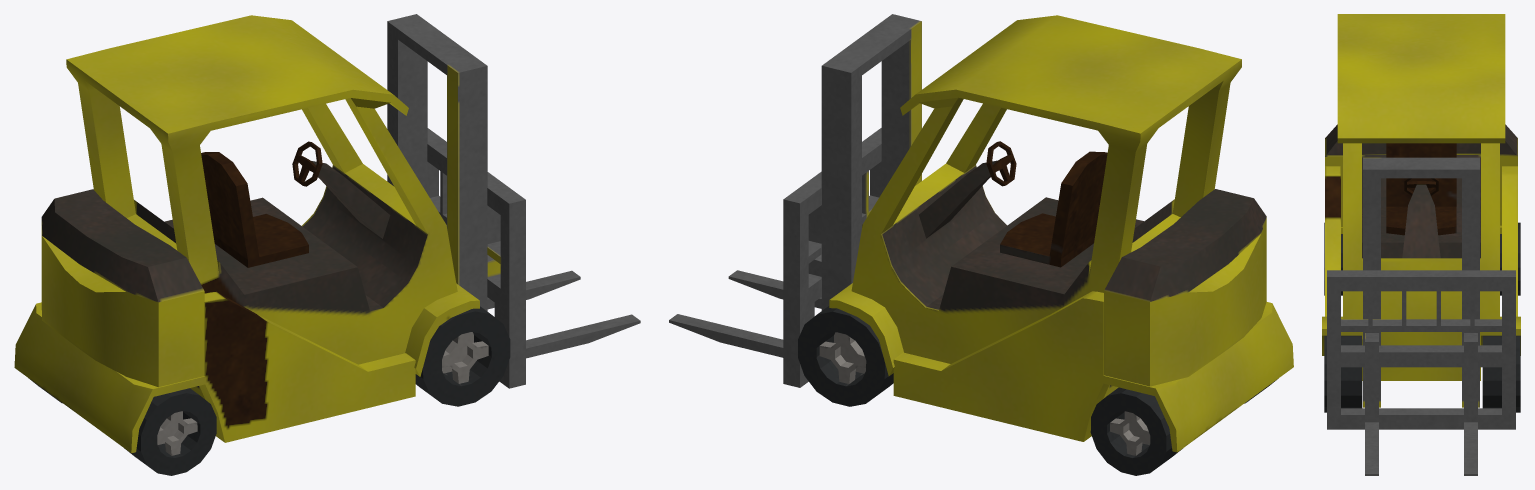
File: forklift.fbx
The picture shows the model from 3 angles, left to right: view 1: azimuth 30°, elevation 25°; view 2: azimuth 150°, elevation 25°; view 3: azimuth 270°, elevation 25°; orthographic projection. The views are drawn at different scales.
Parts seen in each view (by area): view 1: Cube.036, Cube.033, Cube.039, Cube.034, Cube.035, Cube.038, Cylinder.008, Cube.037, Cylinder.009, Cube.040, Cylinder.007; view 2: Cube.036, Cube.033, Cube.039, Cube.034, Cube.035, Cube.038, Cylinder.008, Cube.037, Cylinder.009, Cube.040, Cylinder.007; view 3: Cube.036, Cube.038, Cube.039, Cube.040, Cube.037, Cube.033, Cylinder.008, Cube.035, Cube.034, Cylinder.009, Cylinder.007.
Part boxes in pixels (<box>): Cube.036: <box>66,15,479,399</box>; Cube.033: <box>14,291,415,453</box>; Cube.039: <box>387,14,487,311</box>; Cube.034: <box>41,226,204,387</box>; Cube.035: <box>41,189,204,302</box>; Cube.038: <box>427,128,525,388</box>; Cylinder.008: <box>415,306,510,406</box>; Cube.037: <box>201,152,308,267</box>; Cylinder.009: <box>28,378,216,475</box>; Cube.040: <box>446,225,640,358</box>; Cylinder.007: <box>292,141,322,186</box>; Cube.036: <box>829,15,1241,398</box>; Cube.033: <box>893,291,1293,452</box>; Cube.039: <box>821,14,921,310</box>; Cube.034: <box>1104,218,1266,386</box>; Cube.035: <box>1104,189,1266,301</box>; Cube.038: <box>783,128,881,387</box>; Cylinder.008: <box>798,306,893,406</box>; Cube.037: <box>1000,151,1107,267</box>; Cylinder.009: <box>1090,378,1278,475</box>; Cube.040: <box>669,224,862,357</box>; Cylinder.007: <box>986,141,1016,186</box>; Cube.036: <box>1322,14,1520,380</box>; Cube.038: <box>1327,270,1515,429</box>; Cube.039: <box>1363,157,1479,407</box>; Cube.040: <box>1365,333,1477,475</box>; Cube.037: <box>1386,143,1456,235</box>; Cube.033: <box>1325,166,1517,316</box>; Cylinder.008: <box>1324,335,1520,412</box>; Cube.035: <box>1325,124,1517,156</box>; Cube.034: <box>1325,154,1517,226</box>; Cylinder.009: <box>1324,222,1520,295</box>; Cylinder.007: <box>1404,178,1438,195</box>.
Bounding box in the file's own units: 4251 × 2562 × 1662.
1 material, 1 textured.
